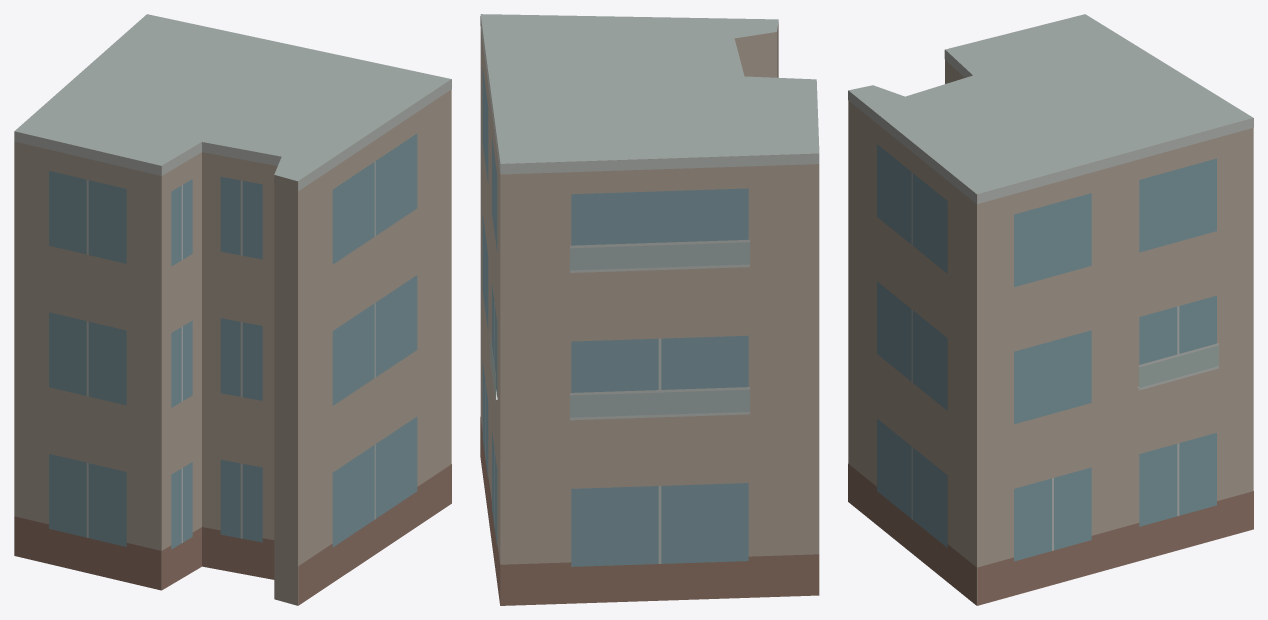
The model's file is survey-upis-32473995.glb.
The picture shows the model from 3 angles, left to right: view 1: azimuth 30°, elevation 25°; view 2: azimuth 150°, elevation 25°; view 3: azimuth 270°, elevation 25°; orthographic projection. The views are drawn at different scales.
Parts seen in each view (by area): view 1: survey-upis-32473995.tmp; view 2: survey-upis-32473995.tmp; view 3: survey-upis-32473995.tmp.
Part boxes in pixels (x1=…): survey-upis-32473995.tmp: x1=14, y1=14, x2=451, y2=605; survey-upis-32473995.tmp: x1=480, y1=14, x2=819, y2=605; survey-upis-32473995.tmp: x1=848, y1=14, x2=1253, y2=605.
Size of the model in its own units: 9.6 by 10.2 by 9.12.
